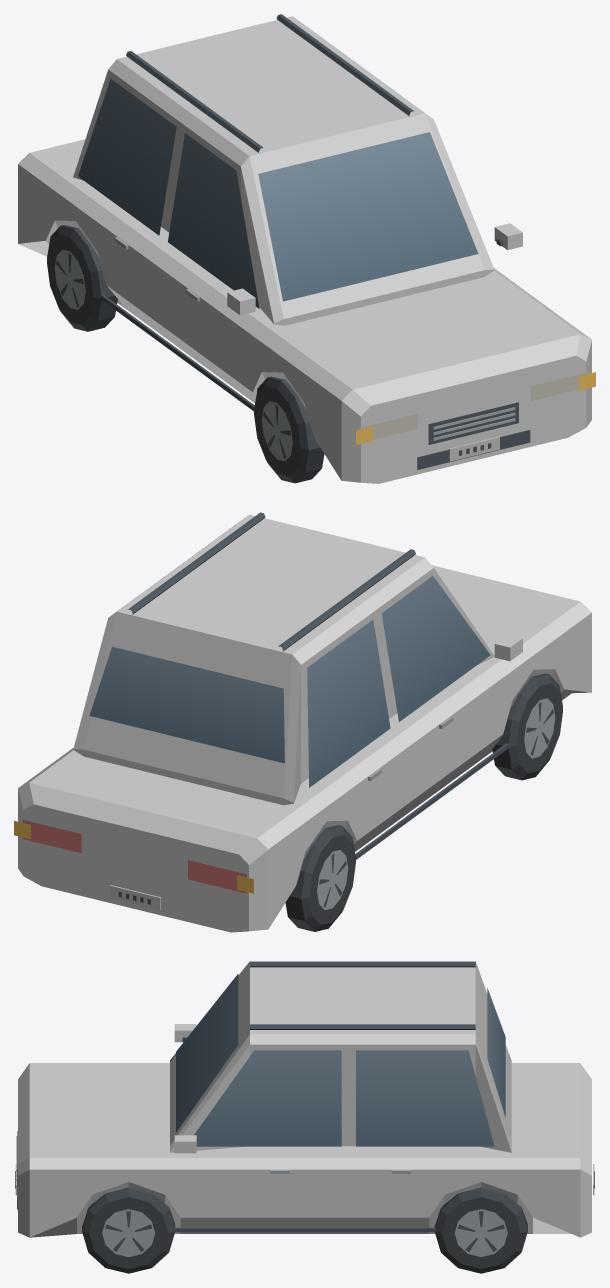
File: suv.glb
The picture shows the model from 3 angles, top to bottom: view 1: azimuth 30°, elevation 25°; view 2: azimuth 150°, elevation 25°; view 3: azimuth 270°, elevation 25°; orthographic projection. The views are drawn at different scales.
Visible parts, largest first — view 1: body, wheel_1, wheel_3; view 2: body, wheel_3, wheel_1, brake_0, brake_1; view 3: body, wheel_0, wheel_2.
Part boxes in pixels (bbox=[...]): body: bbox=[18, 14, 591, 483]; wheel_1: bbox=[254, 376, 324, 483]; wheel_3: bbox=[47, 225, 117, 331]; body: bbox=[18, 512, 591, 932]; wheel_3: bbox=[285, 825, 355, 931]; wheel_1: bbox=[492, 673, 562, 780]; brake_0: bbox=[22, 820, 81, 853]; brake_1: bbox=[188, 860, 246, 893]; body: bbox=[15, 961, 594, 1237]; wheel_0: bbox=[82, 1187, 175, 1273]; wheel_2: bbox=[434, 1187, 527, 1273].
Size of the model in its own units: 2.15 by 1.93 by 4.49.
